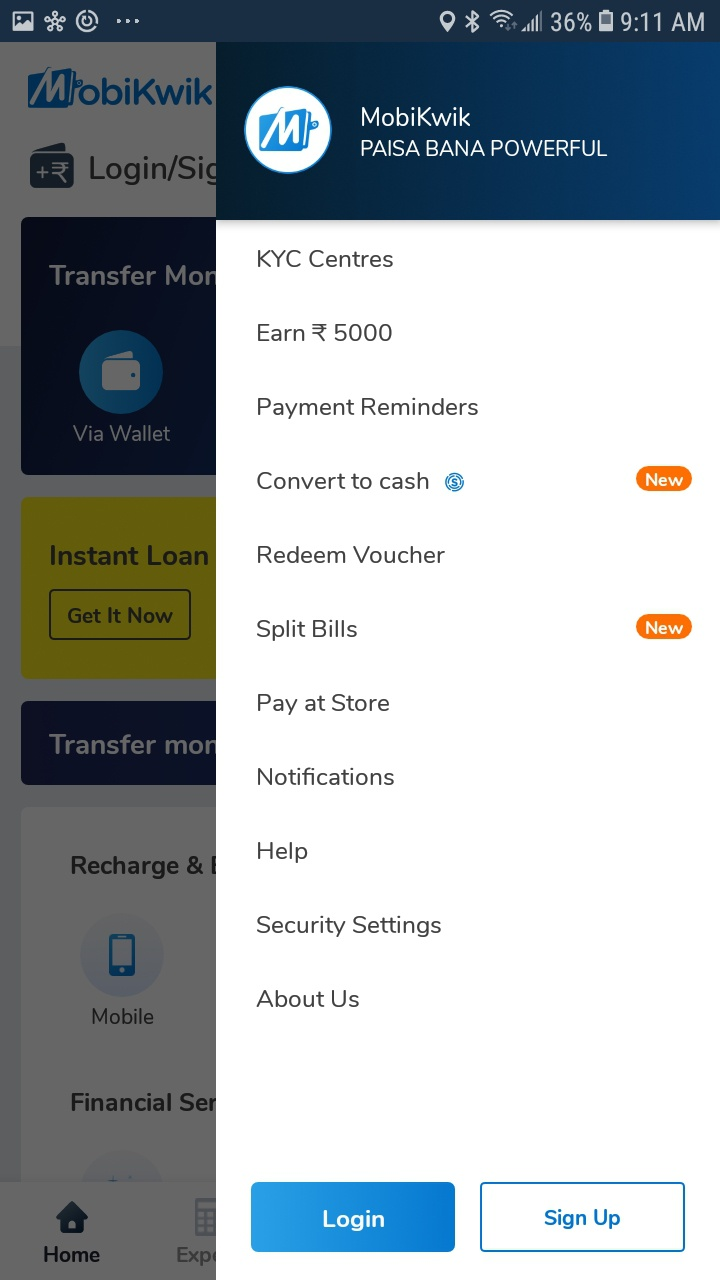Drawer: (216, 43, 720, 1280)
Icon: (444, 472, 465, 493)
Image: (244, 86, 334, 176)
Text: (258, 397, 479, 420), (361, 140, 608, 158), (256, 915, 442, 938), (258, 545, 446, 564), (257, 472, 430, 490), (258, 693, 390, 716), (258, 766, 395, 786), (258, 250, 394, 269), (258, 324, 393, 343), (257, 619, 358, 642), (362, 107, 471, 128), (256, 989, 360, 1008), (258, 841, 308, 864)
TextButton: (480, 1182, 686, 1253), (251, 1181, 456, 1252), (636, 466, 693, 492), (636, 614, 693, 640)
UpperTaskBar: (1, 1, 720, 43)
